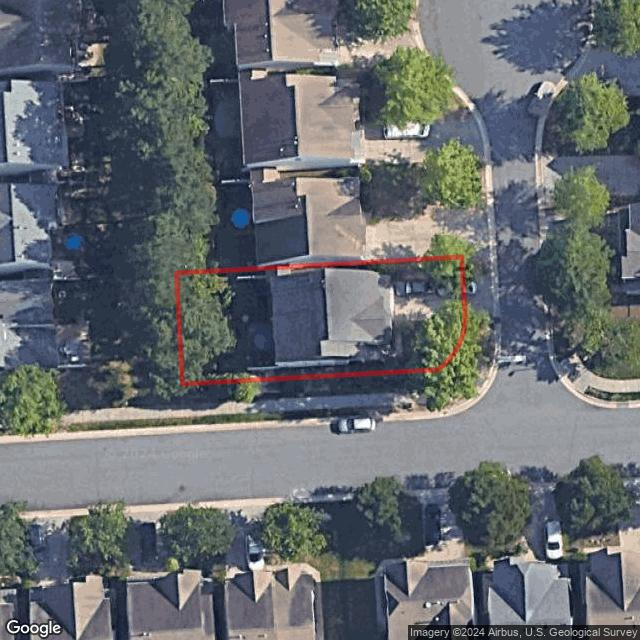Driveway: (394, 275, 466, 320)
Extra-Driveway: (463, 273, 500, 318)
Extra-Lawn: (181, 317, 495, 404), (181, 402, 455, 425), (463, 256, 491, 274)
Extra-Sidewalk: (182, 376, 487, 417)
House: (237, 267, 394, 368)
Lawn: (178, 258, 465, 384)
Other: (246, 323, 273, 350)
Sidewalk: (353, 319, 417, 358)
